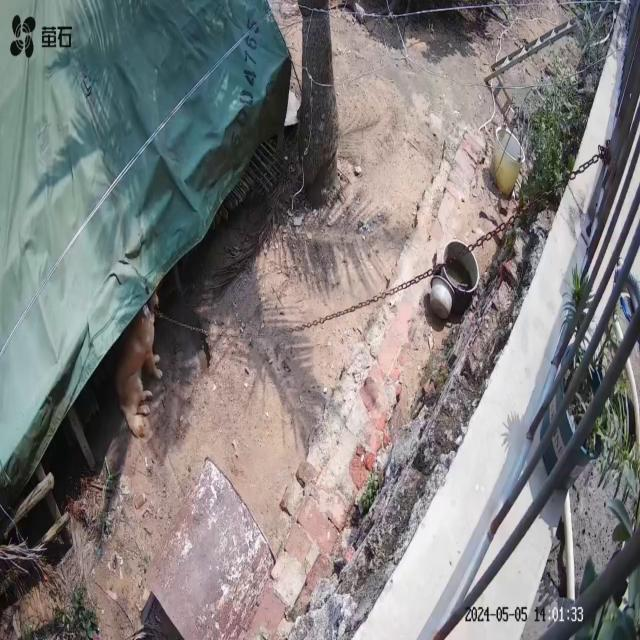dog: (116, 288, 166, 442)
